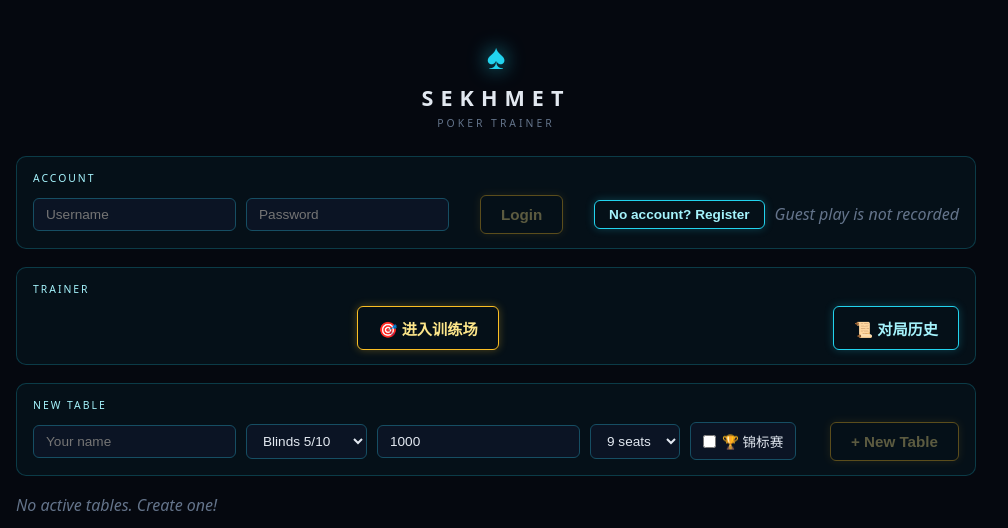
Scenario: login stores the token and shows the personal profile
The image size is (1008, 528).
Type "alice" into the field with placeholder "Username".
click(134, 214); type("alice")  # box [33,198,236,231]
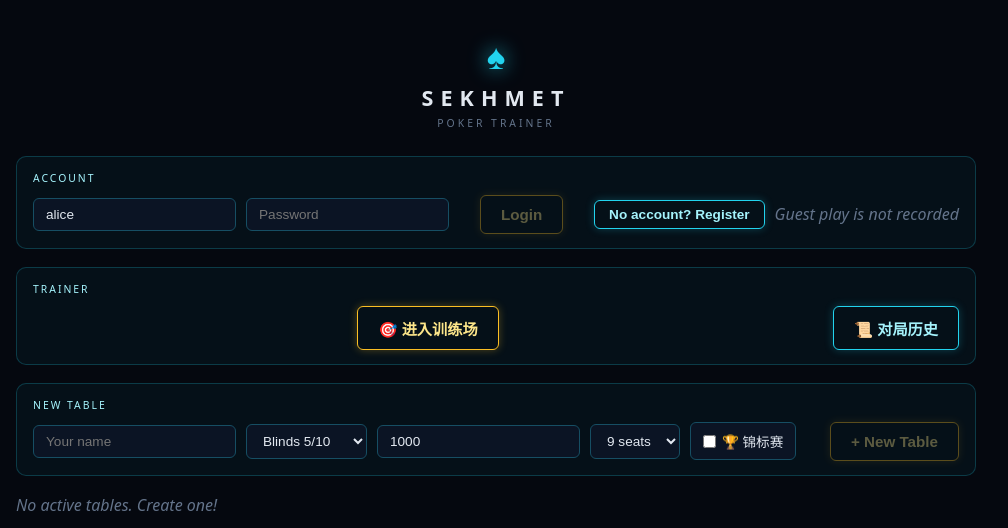
Type "secret123" into the password field with placeholder "Password".
click(348, 214); type("secret123")  # box [246,198,449,231]
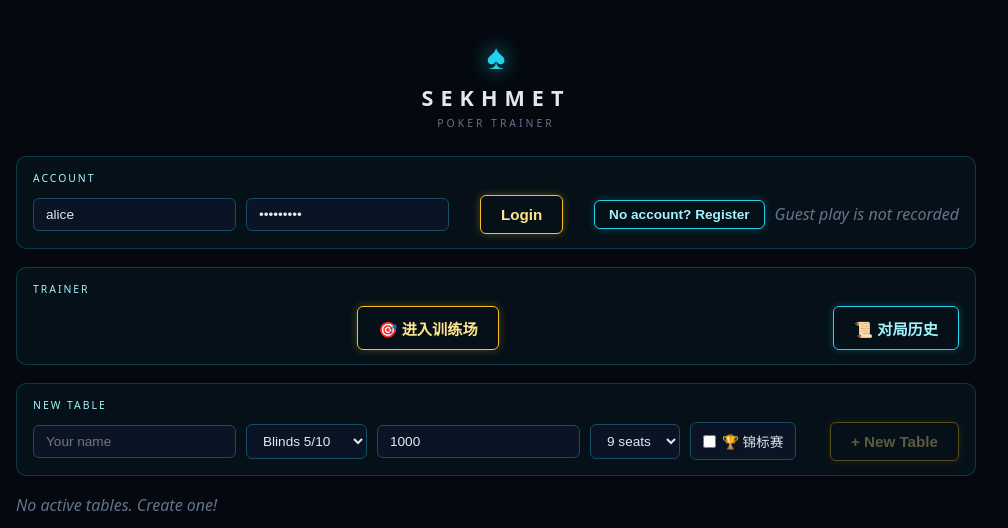
Click the button "Login".
click(522, 214)  # box [480,195,563,234]
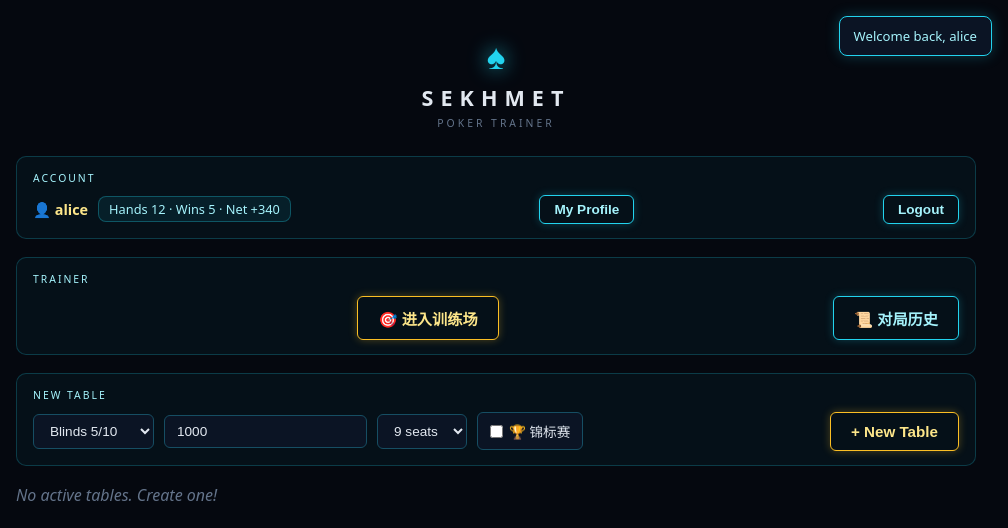
expect the text "👤 alice" is shown: met, box [33,200,88,219]
expect the text "Hands 12 · Wins 5 · Net +340" is shown: met, box [98,196,291,222]
expect the button "Login" is gone: met
